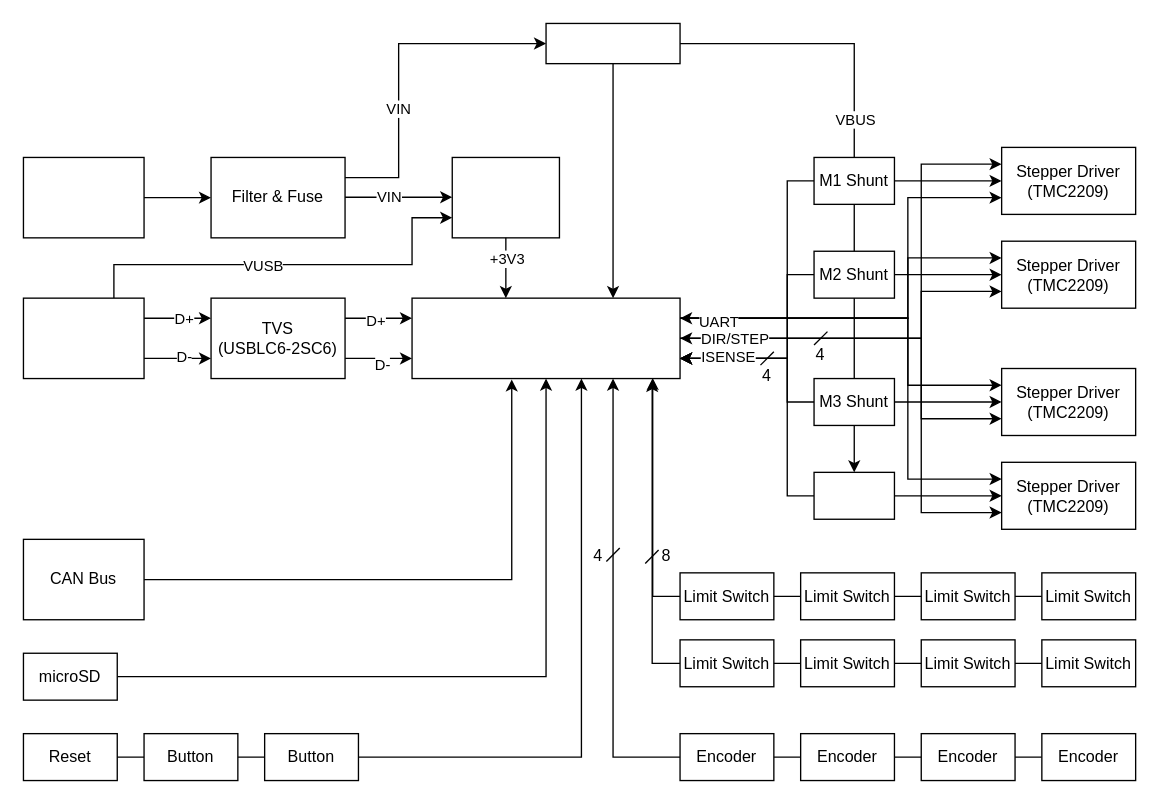
Image size: 1159x804. Some labels were removed from this diagram. Here are the shapes that lost their labels. From the top down, the centre of each, then its label:
the point at 612,43: VBUS Shunt
the point at 83,197: External VIN (12V-24V)
the point at 505,197: 3.3V Buck (LMR38020)
the point at 83,338: USB C
the point at 545,338: MCU (STM32G474QBT6)
the point at 853,495: M4 Shunt
